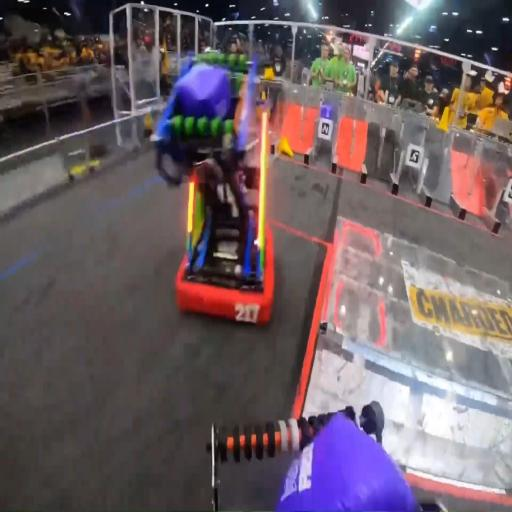robot: (151, 50, 277, 330)
